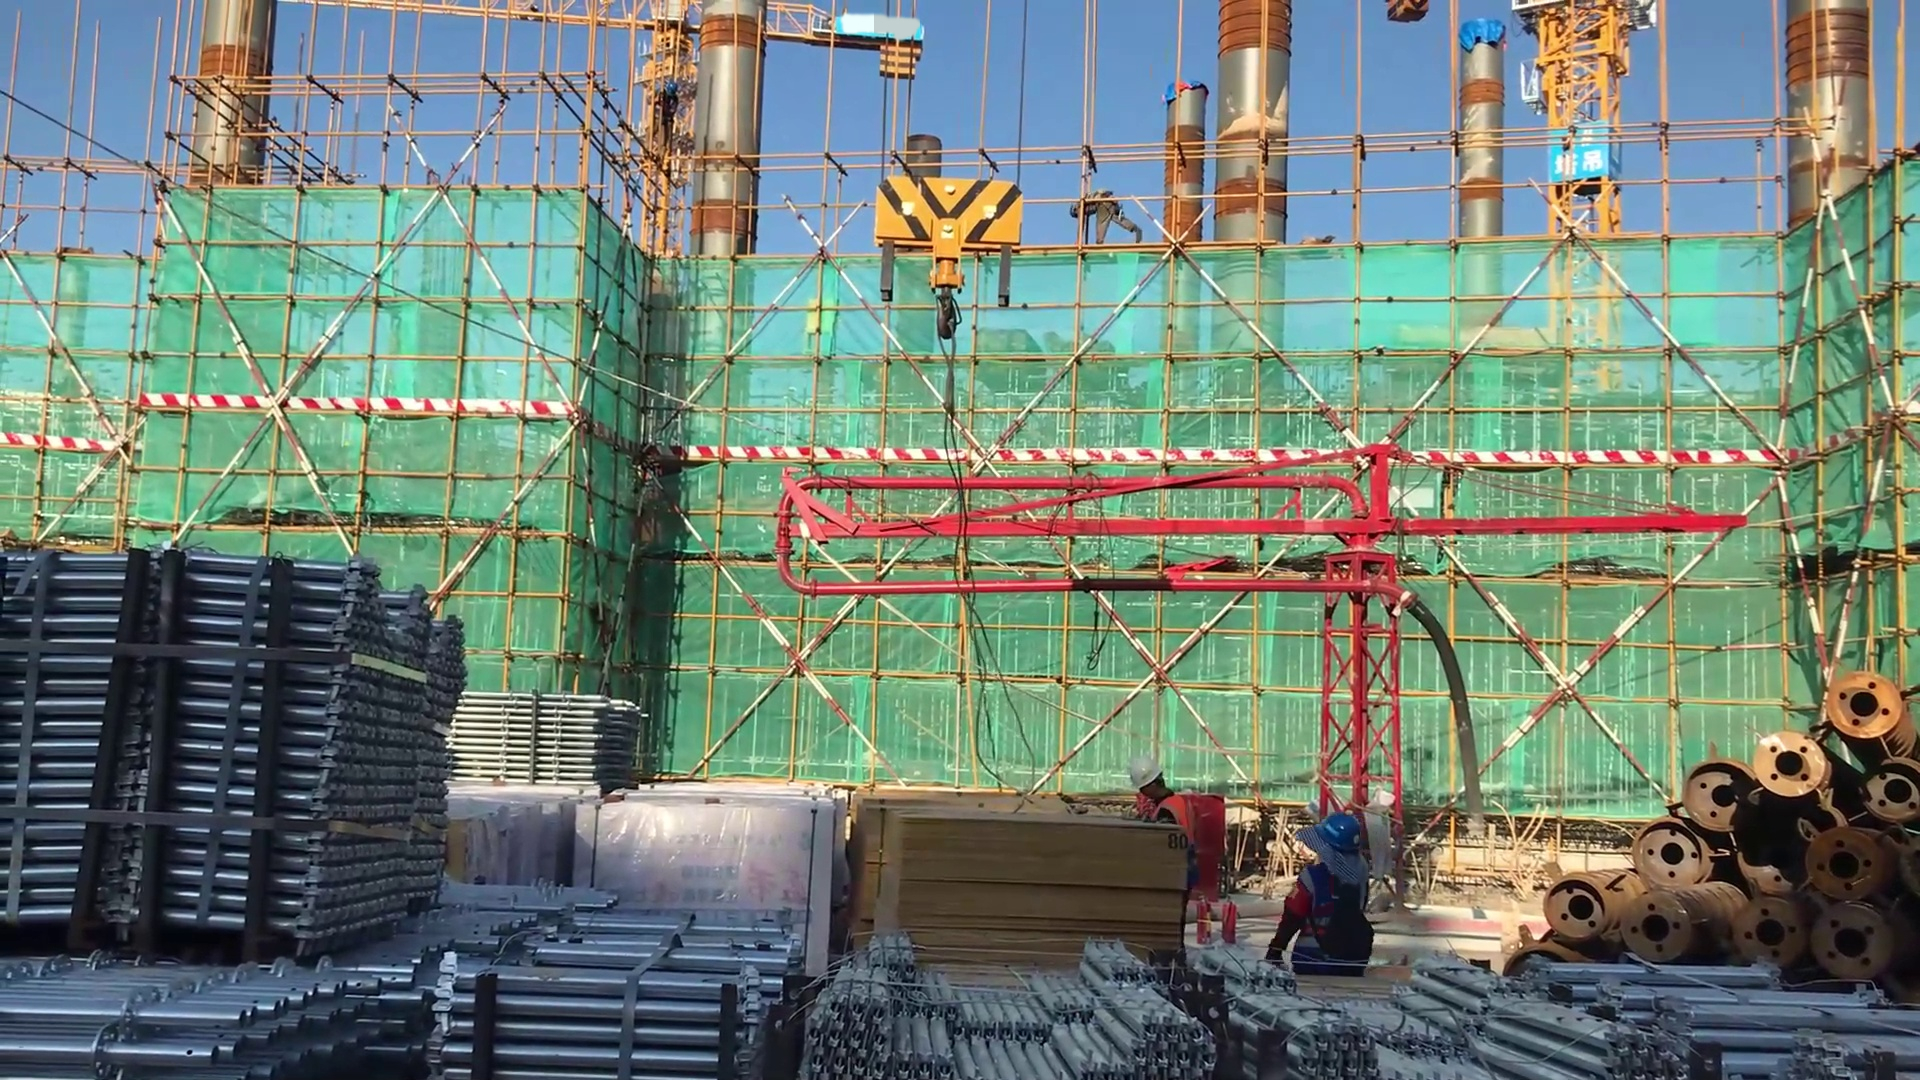board: (848, 784, 1190, 973)
helmet: (1306, 809, 1370, 866), (1127, 758, 1168, 794)
hook: (866, 153, 1038, 369)
person: (1263, 795, 1380, 997), (1130, 756, 1204, 953), (1066, 185, 1152, 248)
scaffold: (1, 535, 448, 931), (436, 873, 809, 1080), (809, 931, 1216, 1080), (1, 938, 434, 1077), (1211, 952, 1595, 1080), (1550, 955, 1920, 1079), (444, 688, 659, 782)
slogan: (1554, 125, 1615, 189)
vest: (1291, 863, 1373, 976), (1148, 788, 1205, 889)
